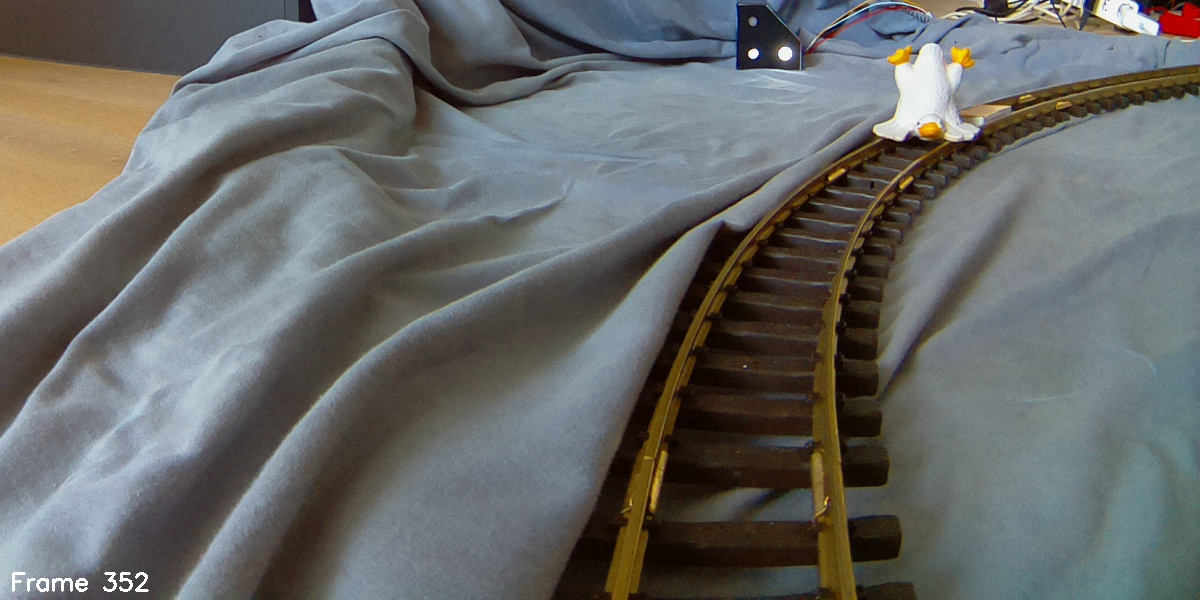Ente: (876, 43, 986, 155)
Halt: (737, 1, 802, 71)
